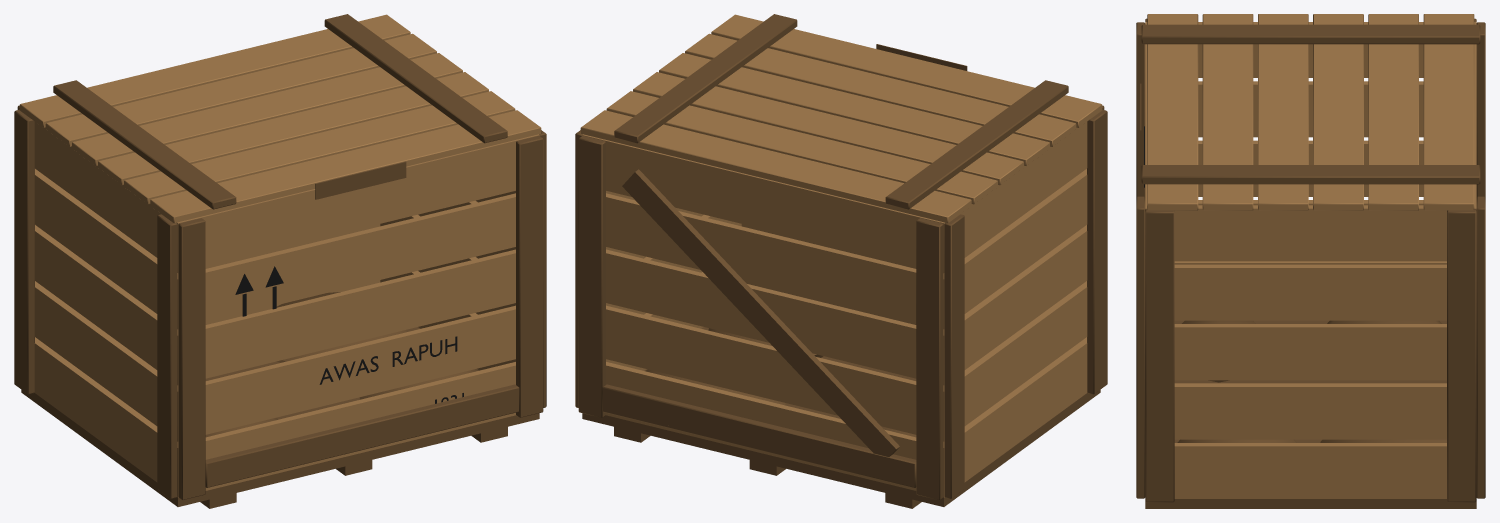
Rendered from crate_hide.glb.
3 views of the same model, side by side, from view 1: azimuth 30°, elevation 25°; view 2: azimuth 150°, elevation 25°; view 3: azimuth 270°, elevation 25° (orthographic). The views are drawn at different scales.
Visible parts, largest first — view 1: CrateBody, Door; view 2: CrateBody, Door; view 3: CrateBody, Door.
Part boxes in pixels (left/top/right/bottom): CrateBody: left=14, top=105, right=546, bottom=508; Door: left=19, top=14, right=541, bottom=222; CrateBody: left=575, top=105, right=1107, bottom=508; Door: left=580, top=14, right=1102, bottom=222; CrateBody: left=1136, top=18, right=1485, bottom=508; Door: left=1140, top=14, right=1480, bottom=210.
Bounding box in the file's own units: 1.25 × 0.974 × 0.9495.
